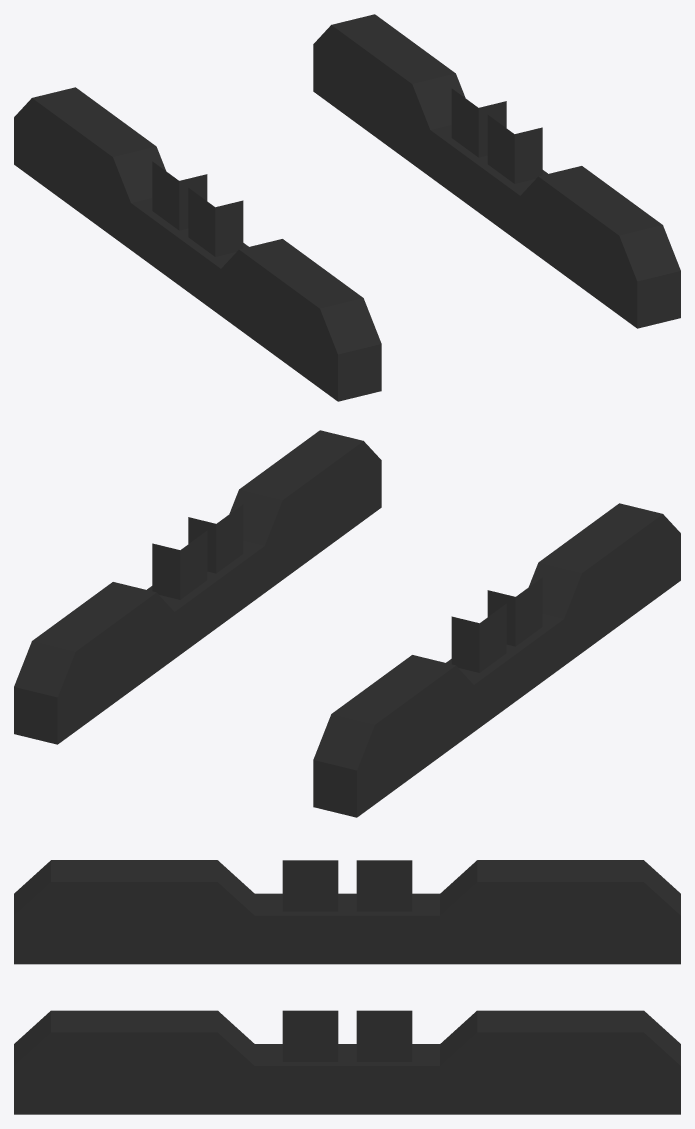
Rendered from train-speed-wheel-frame_B.glb.
3 views of the same model, one above another, from view 1: azimuth 30°, elevation 25°; view 2: azimuth 150°, elevation 25°; view 3: azimuth 270°, elevation 25° (orthographic). The views are drawn at different scales.
Parts seen in each view (by area): view 1: train-speed-wheel-frame_B; view 2: train-speed-wheel-frame_B; view 3: train-speed-wheel-frame_B.
Part boxes in pixels (x1,y1,x2,y2): train-speed-wheel-frame_B: [14, 14, 680, 401]; train-speed-wheel-frame_B: [14, 430, 680, 817]; train-speed-wheel-frame_B: [14, 860, 680, 1114].
Bounding box in the file's own units: 2.2 × 0.595 × 3.6.
Materials: 1 (1 with a texture image).
